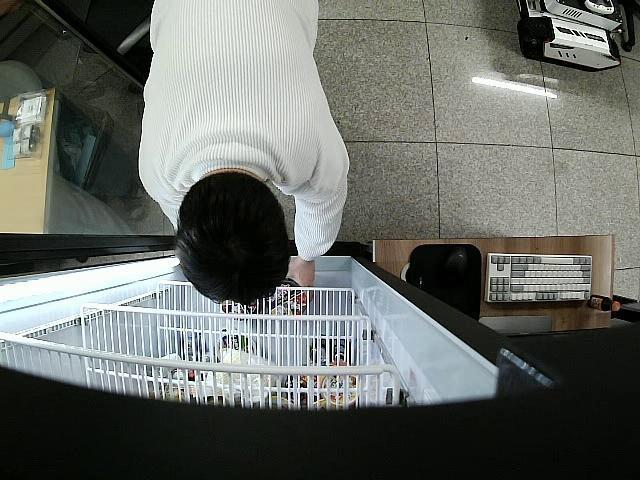07_buldak_L: (270, 280, 308, 316)
